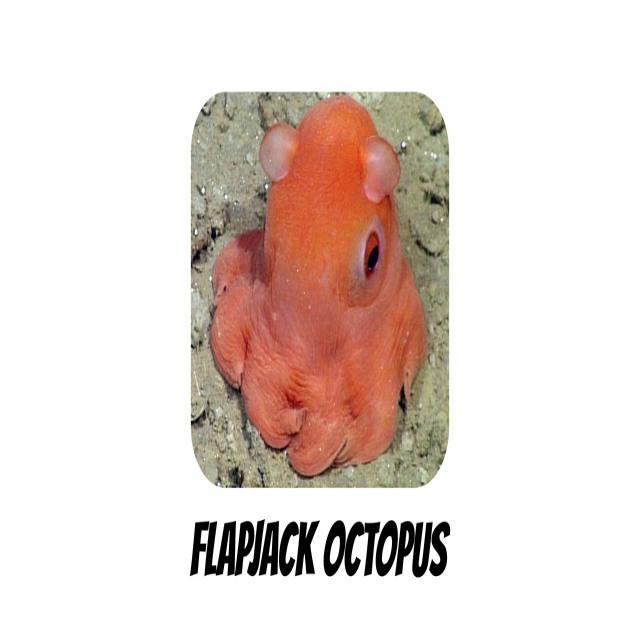octopus: (212, 98, 431, 479)
